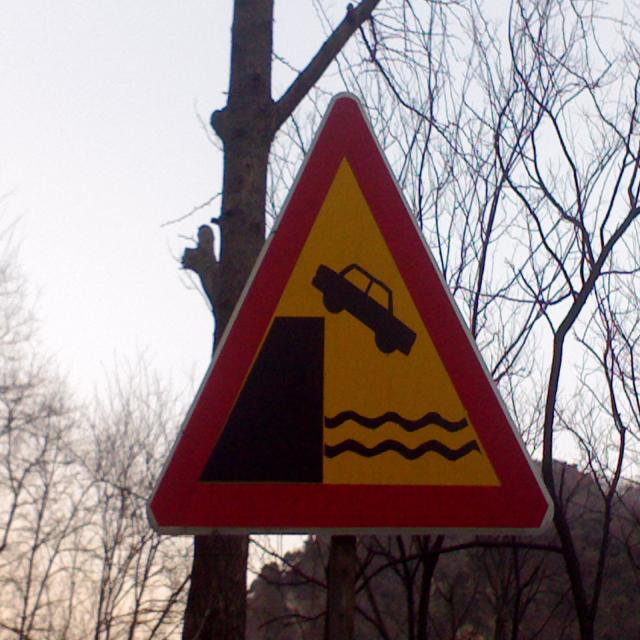Riverside_drive: (136, 61, 565, 557)
